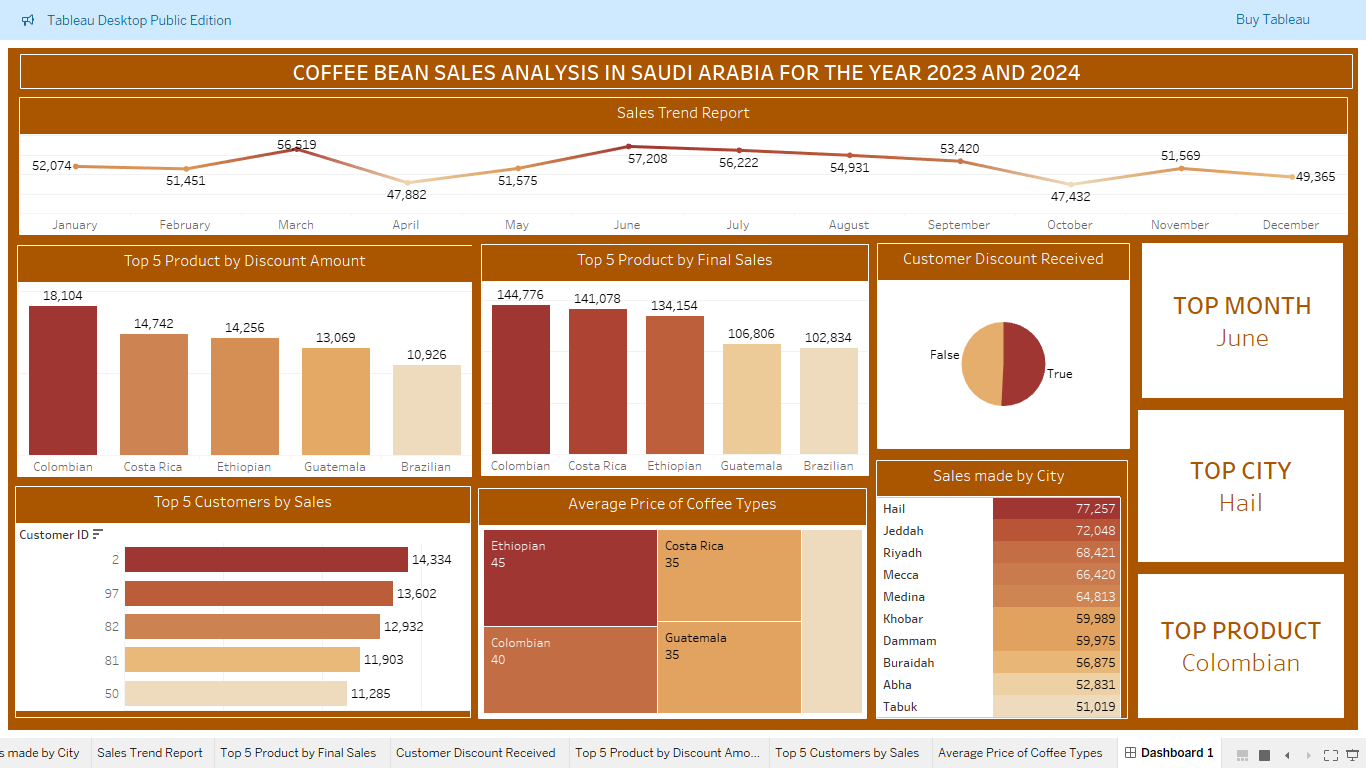

The page's visual inventory and layout, read from the dashboard file:
{"tool":"tableau","page":{"name":"Dashboard ","canvas":[1000,1000],"units":"permille","ordinal":0},"visuals":[{"type":"image","box":[6.9,13.5,986.1,973]},{"type":"text","box":[14.7,20.3,975.7,50.7]},{"type":"worksheet","title":"Sales Trend Report","mark":"Automatic","rows":["Final Sales"],"cols":["Date"],"box":[13.9,81.1,973.1,197.6]},{"type":"worksheet","title":"Customer Discount Received","mark":"Pie","box":[642.4,290.5,185.3,331.1]},{"type":"text","box":[836.4,290.5,147.2,223]},{"type":"worksheet","title":"Top 5 Product by Final Sales","mark":"Automatic","rows":["Final Sales"],"cols":["Product"],"box":[351.8,292.2,284.2,332.8]},{"type":"worksheet","title":"Top 5 Product by Discount Amount","mark":"Automatic","rows":["Discount_Amount"],"cols":["Product"],"box":[12.1,293.9,333.6,332.8]},{"type":"text","box":[832.9,530.4,150.7,217.9]},{"type":"worksheet","title":"Sales made by City","mark":"Square","rows":["City"],"box":[637.2,636.8,186.2,366.6]},{"type":"worksheet","title":"Top 5 Customers by Sales","mark":"Automatic","rows":["Customer_ID"],"cols":["Final Sales"],"box":[11.3,638.5,333.6,332.8]},{"type":"worksheet","title":"Average Price of Coffee Types","mark":"Automatic","box":[350.1,641.9,285.1,331.1]},{"type":"text","box":[832.9,765.2,150.7,206.1]}]}

Visuals, with their boxes on the dashboard's canvas, which has no fixed pixel size, in thousandths of its width and height (x1, y1, x2, y2). These are canvas units, not pixel positions in the 1366x768 screenshot, which may show the page scaled, cropped or inside an application window:
image: box(7, 14, 993, 986)
text: box(15, 20, 990, 71)
"Sales Trend Report" worksheet: box(14, 81, 987, 279)
"Customer Discount Received" worksheet (Pie marks): box(642, 290, 828, 622)
text: box(836, 290, 984, 514)
"Top 5 Product by Final Sales" worksheet: box(352, 292, 636, 625)
"Top 5 Product by Discount Amount" worksheet: box(12, 294, 346, 627)
text: box(833, 530, 984, 748)
"Sales made by City" worksheet (Square marks): box(637, 637, 823, 1003)
"Top 5 Customers by Sales" worksheet: box(11, 638, 345, 971)
"Average Price of Coffee Types" worksheet: box(350, 642, 635, 973)
text: box(833, 765, 984, 971)
